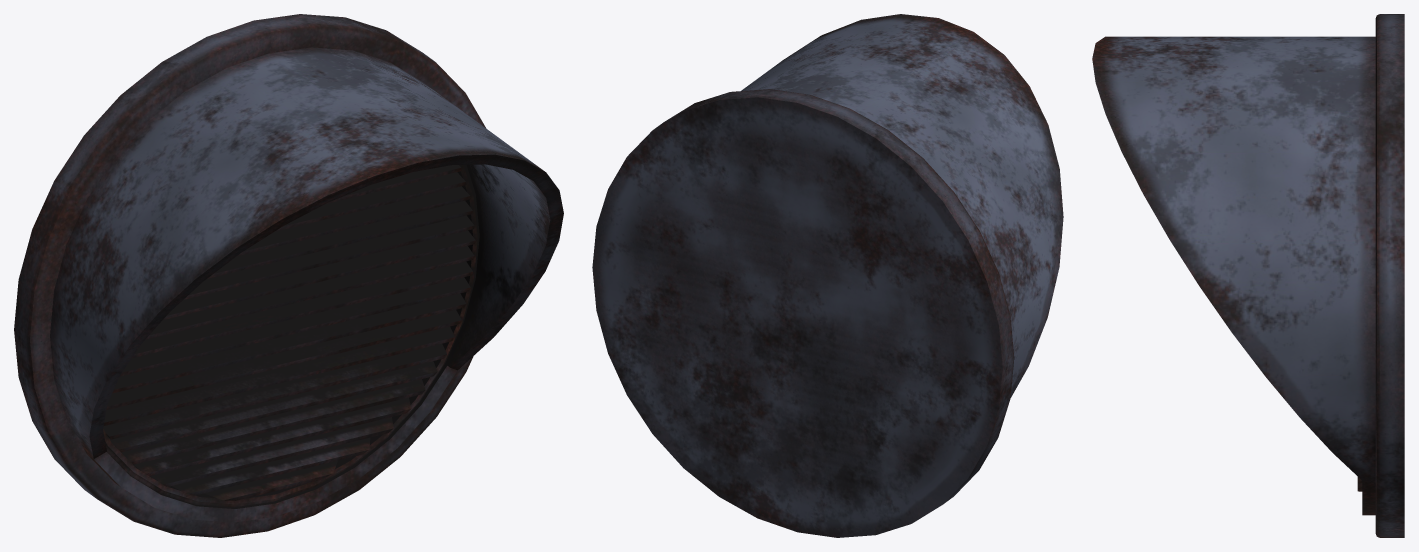
Rendered from Round_Vent_Shrouded.fbx.
The picture shows the model from 3 angles, left to right: view 1: azimuth 30°, elevation 25°; view 2: azimuth 150°, elevation 25°; view 3: azimuth 270°, elevation 25°; orthographic projection. The views are drawn at different scales.
Parts seen in each view (by area): view 1: Round_Vent_Shrouded; view 2: Round_Vent_Shrouded; view 3: Round_Vent_Shrouded.
Boxes of the visible parts, x1,y1,x2,y2 form: Round_Vent_Shrouded: (14, 14, 563, 537); Round_Vent_Shrouded: (592, 14, 1063, 537); Round_Vent_Shrouded: (1092, 14, 1404, 537).
Size of the model in its own units: 109 by 109 by 65.19.
